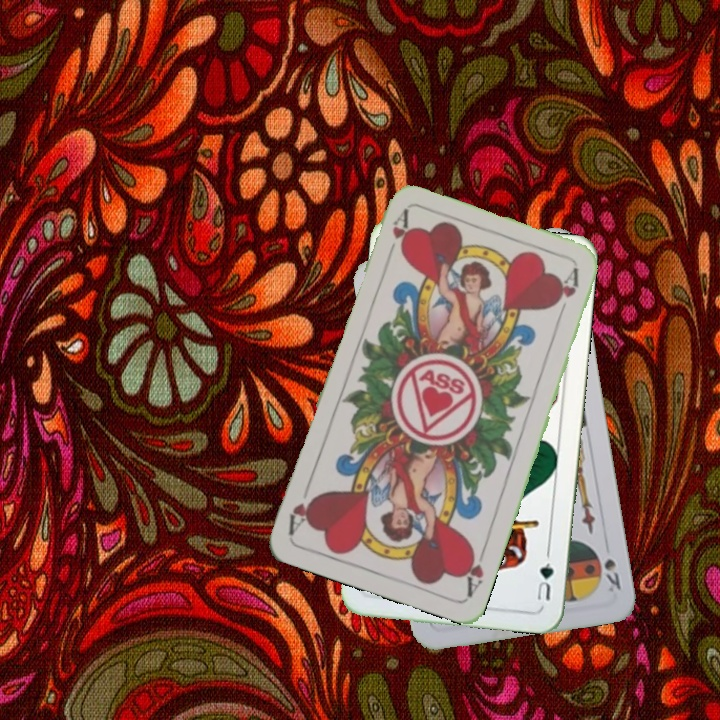GU: (533, 558, 556, 603)
HA: (459, 541, 489, 599), (381, 207, 411, 264)
SK: (600, 554, 624, 595)
